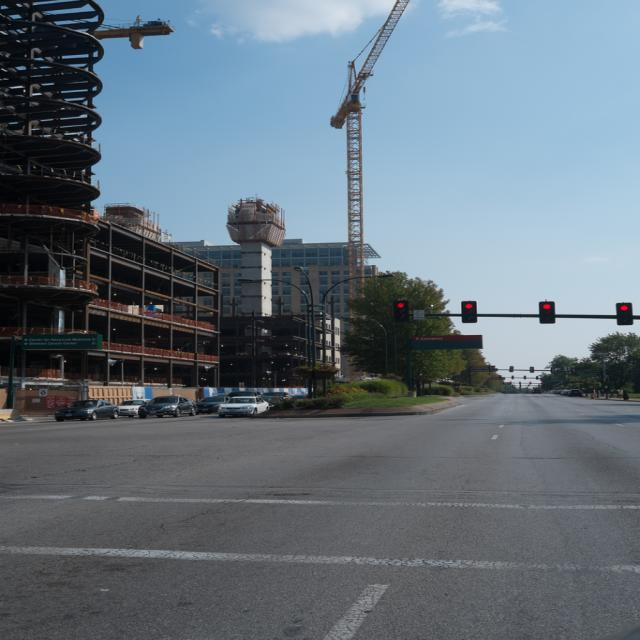traffic light: (616, 302, 632, 326), (539, 302, 555, 324), (395, 300, 410, 323), (462, 300, 477, 323)
